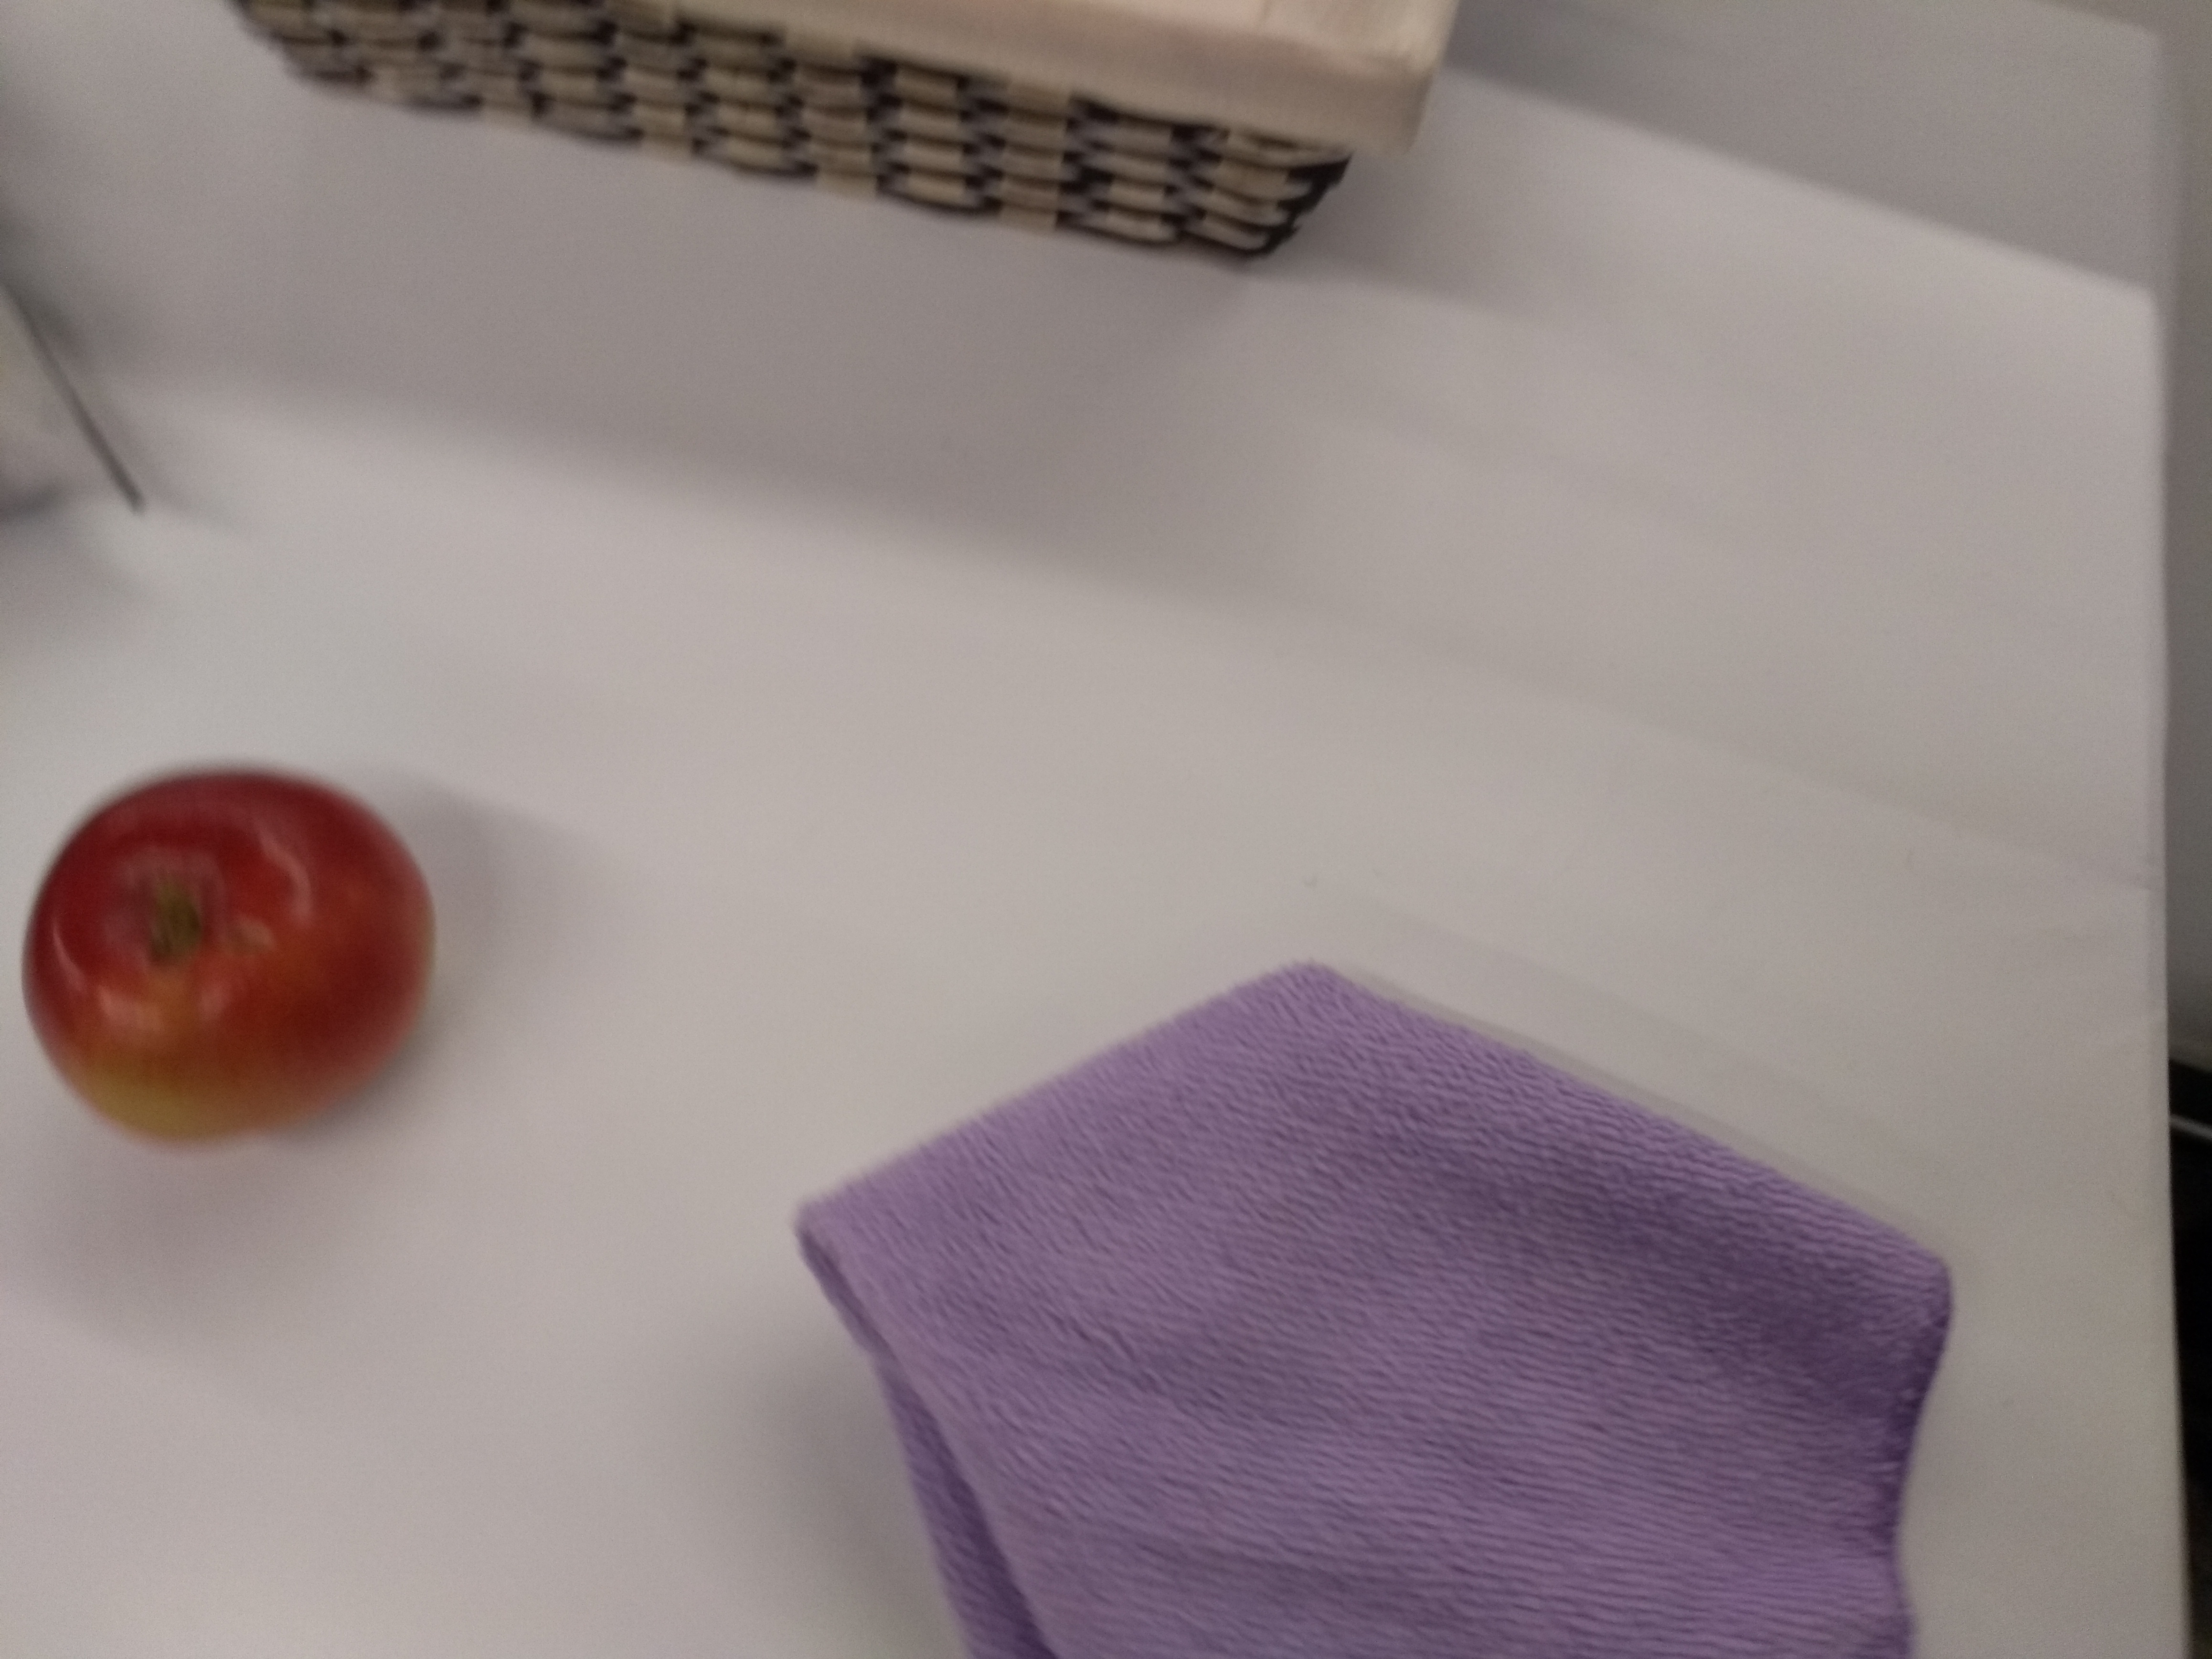apple: (14, 748, 455, 1159)
